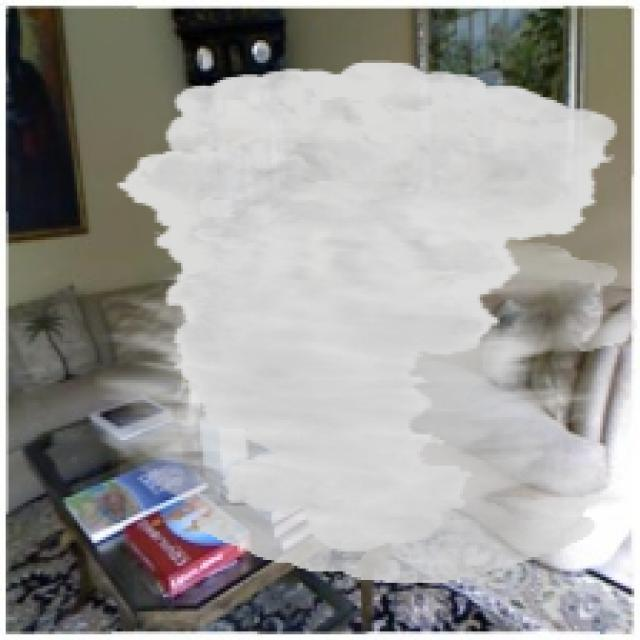smoke: (94, 60, 637, 583)
